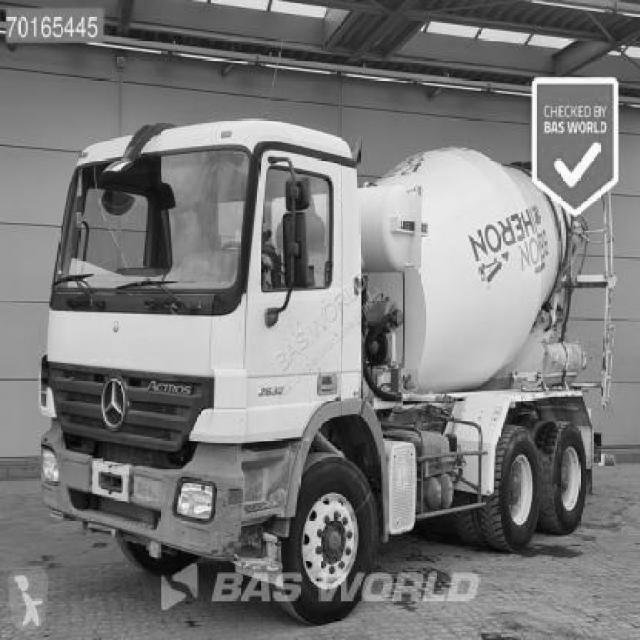Concrete Mixer: (41, 120, 618, 629)
